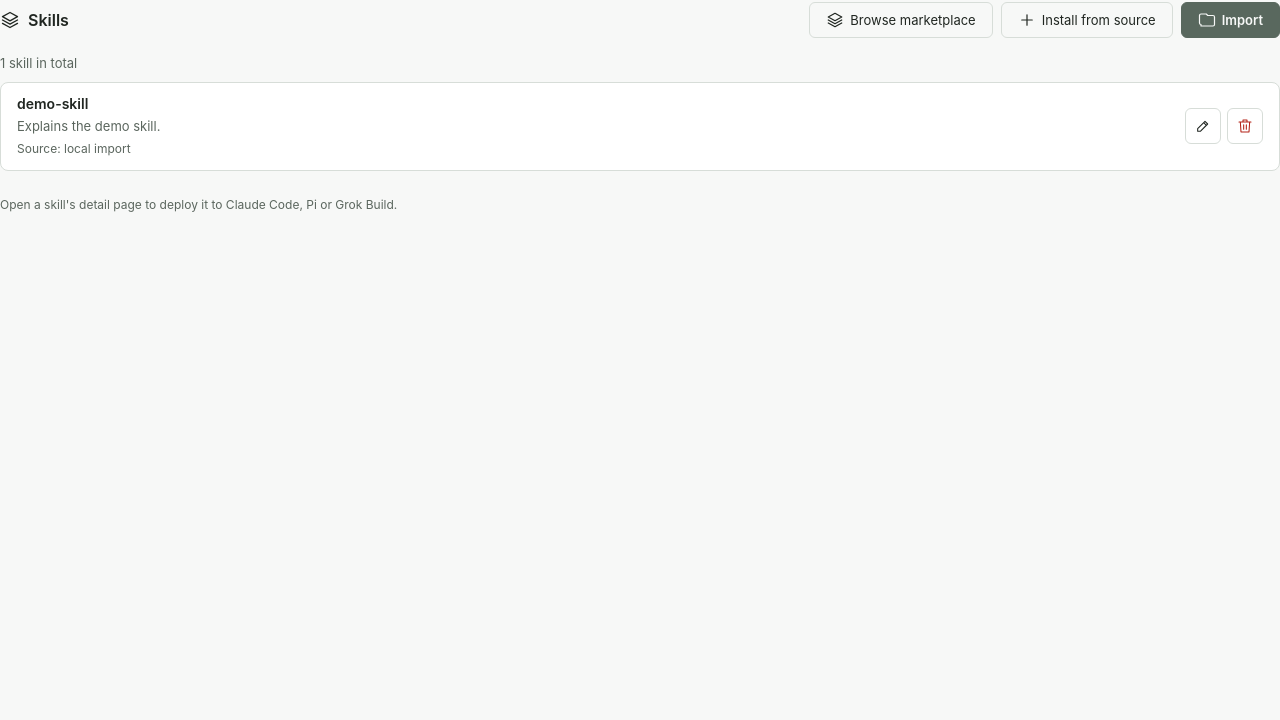
Test: a large skill reports its size in megabytes
The image size is (1280, 720).
Click the button named "Open details for demo-skill": (1203, 126) top-left (1185, 108), bottom-right (1221, 144)
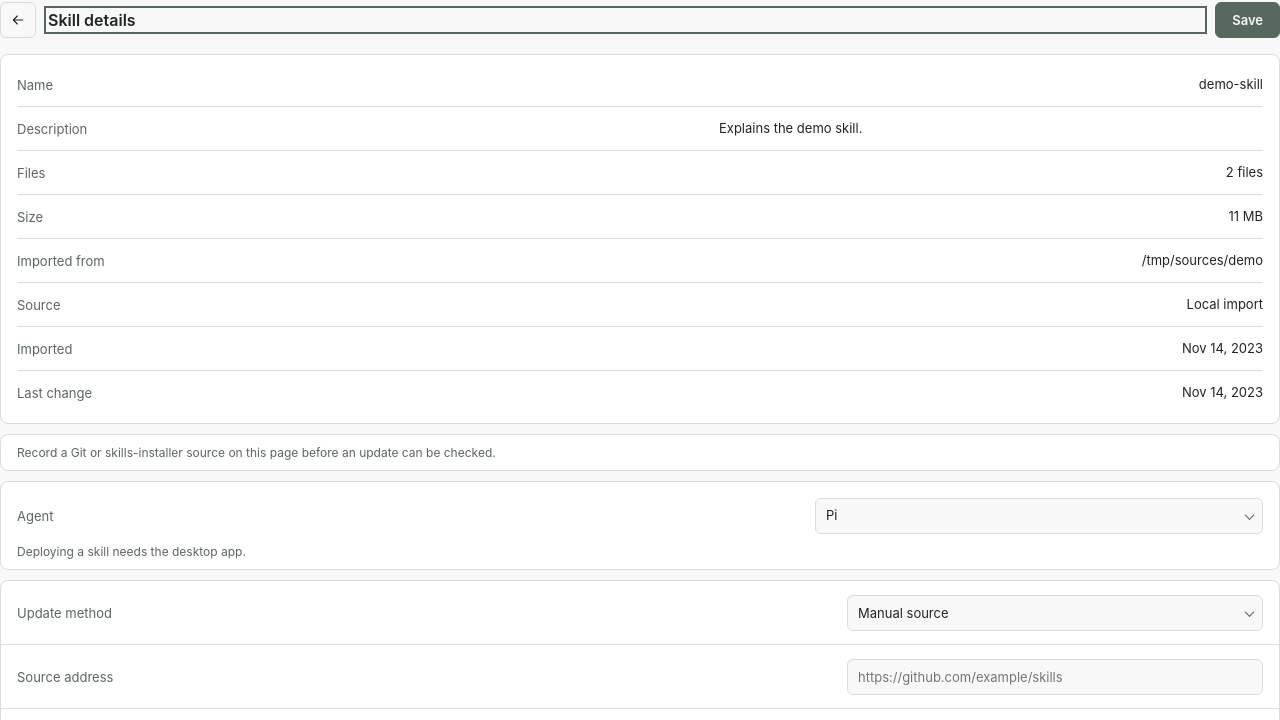
Check: the text "11 MB" is shown, box top-left (1228, 208), bottom-right (1263, 224)
